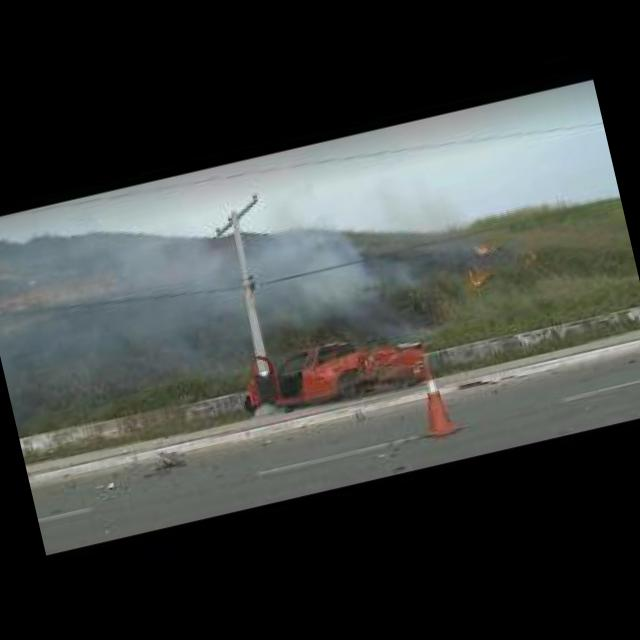fire: (466, 264, 492, 288), (474, 242, 494, 255)
smoke: (160, 202, 443, 392)
